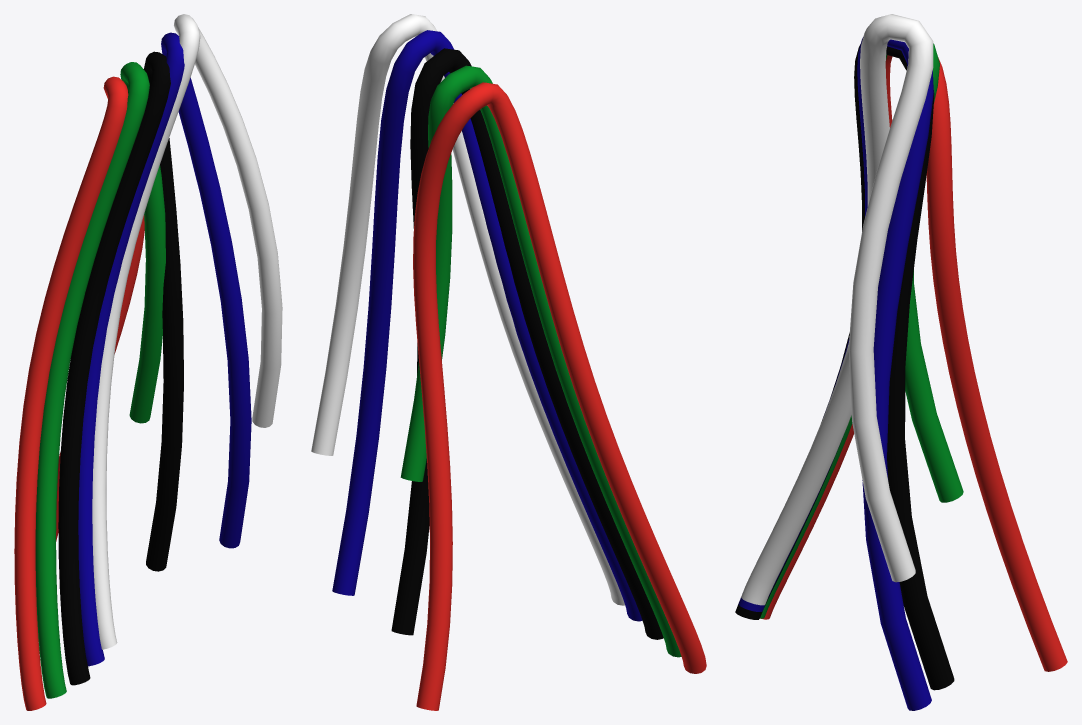
Rendered from Mini-kable1.fbx.
The picture shows the model from 3 angles, left to right: view 1: azimuth 30°, elevation 25°; view 2: azimuth 150°, elevation 25°; view 3: azimuth 270°, elevation 25°; orthographic projection. The views are drawn at different scales.
Visible parts, largest first — view 1: Mini-kable1; view 2: Mini-kable1; view 3: Mini-kable1.
Part boxes in pixels (x1,y1,x2,y2): Mini-kable1: [14, 14, 282, 710]; Mini-kable1: [311, 14, 706, 710]; Mini-kable1: [735, 14, 1067, 710].
Bounding box in the file's own units: 9.94 × 18.64 × 7.74.
